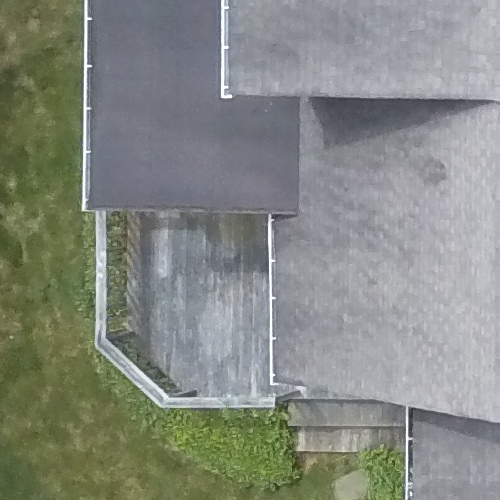porch: (82, 192, 312, 464)
